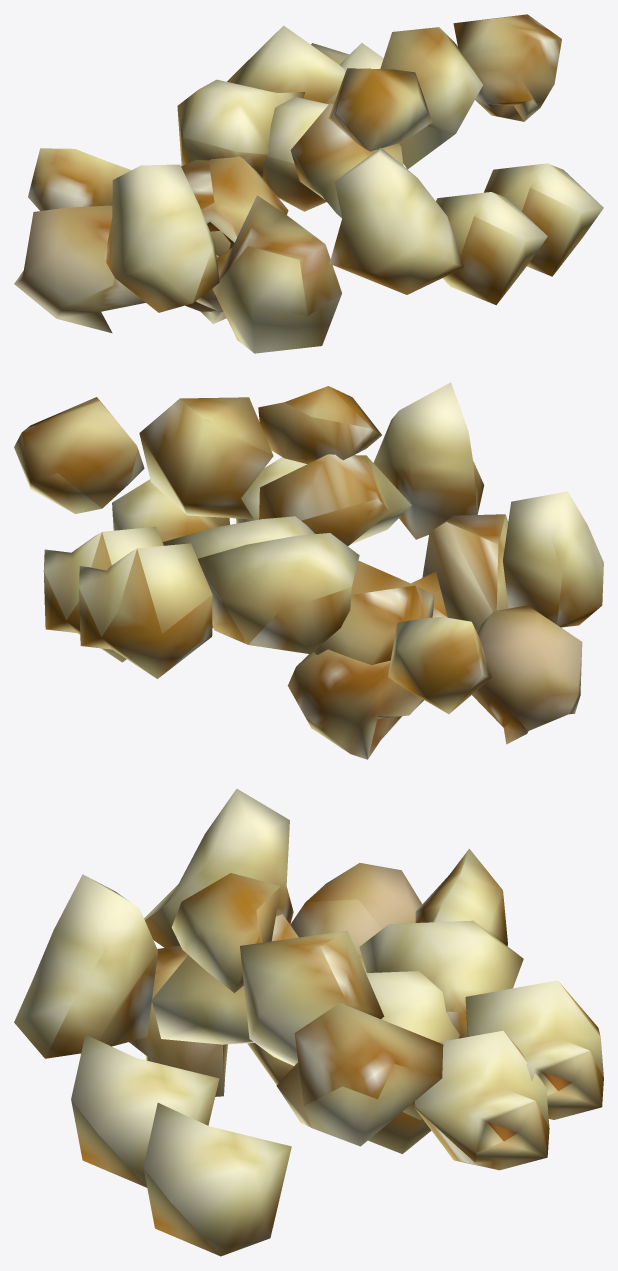
File: PopCornBundle.fbx
The picture shows the model from 3 angles, top to bottom: view 1: azimuth 30°, elevation 25°; view 2: azimuth 150°, elevation 25°; view 3: azimuth 270°, elevation 25°; orthographic projection. The views are drawn at different scales.
Parts seen in each view (by area): view 1: Popcorn.002; view 2: Popcorn.002; view 3: Popcorn.002.
Part boxes in pixels (x1,y1,x2,y2): Popcorn.002: (14, 14, 603, 353); Popcorn.002: (14, 382, 603, 759); Popcorn.002: (14, 789, 603, 1256).
Size of the model in its own units: 0.1472 by 0.0716 by 0.1171.
